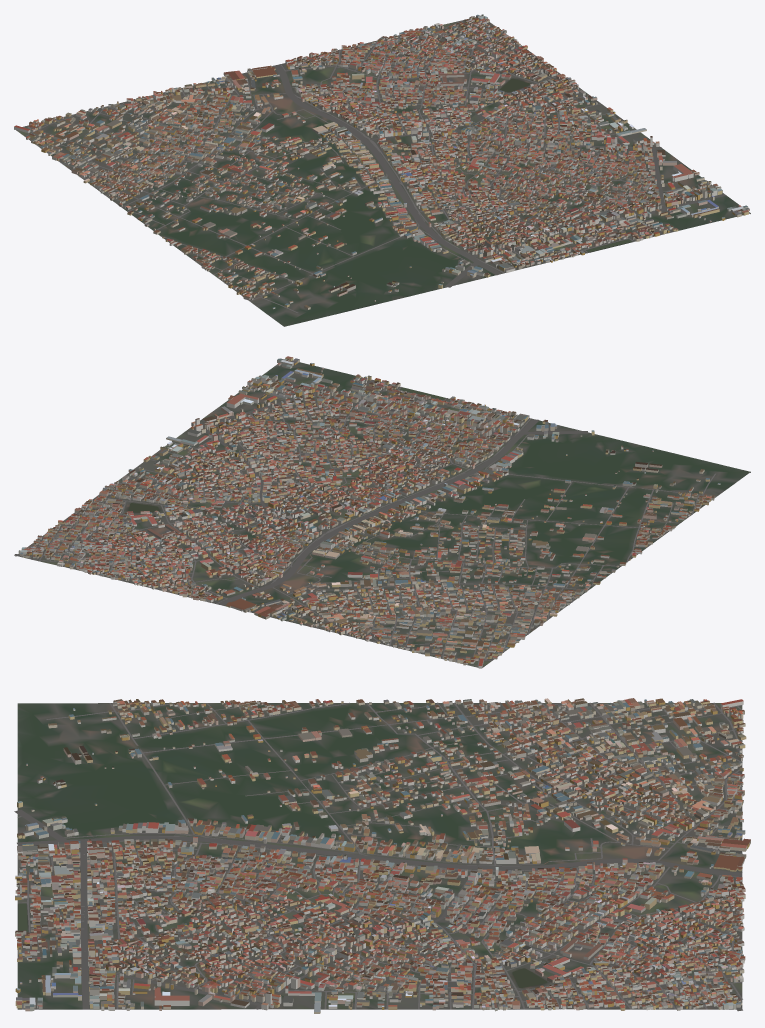
3 renders of one model, top to bottom at view 1: azimuth 30°, elevation 25°; view 2: azimuth 150°, elevation 25°; view 3: azimuth 270°, elevation 25°, orthographic. The views are drawn at different scales.
Parts seen in each view (by area): view 1: buildings, ground, roads; view 2: buildings, ground, roads; view 3: buildings, ground, roads, water.
Boxes of the visible parts, box(x1,y1,x2,y2) form: buildings: box(14, 14, 749, 309); ground: box(14, 17, 750, 326); roads: box(23, 15, 741, 312); buildings: box(18, 356, 720, 668); ground: box(15, 360, 750, 667); roads: box(14, 378, 716, 667); buildings: box(15, 698, 750, 1013); ground: box(17, 703, 742, 1009); roads: box(14, 702, 742, 1011); water: box(18, 903, 547, 987).
Bounding box in the file's own units: 1428 × 30.22 × 1426.
